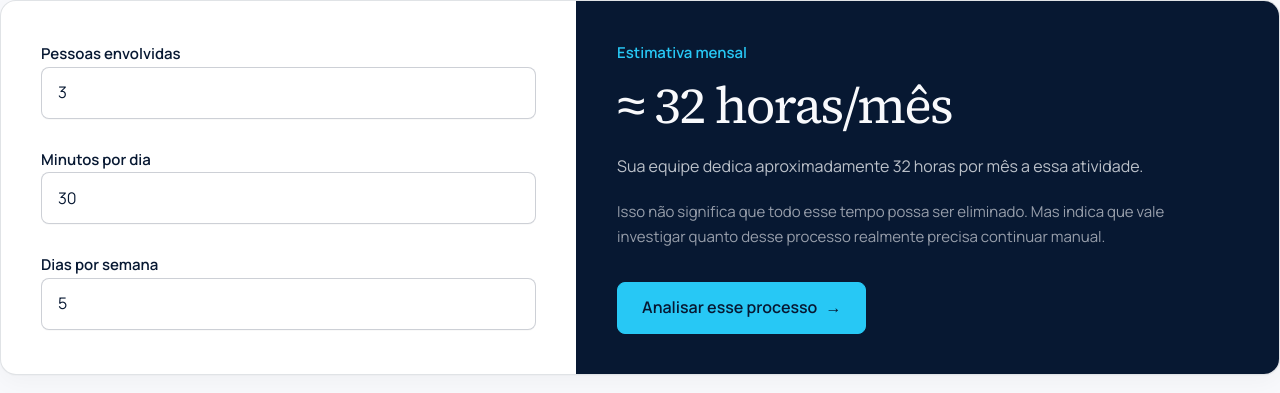
Test: manual-work calculator › updates the local estimate when an input changes
The width and height of the screenshot is (1280, 393).
Check: the text "32 horas/mês" is shown, box 617,70 -> 952,140
Replace the text in the number field labelled "Pessoas envolvidas" with "6" at point(289, 93), box 41,67 -> 536,119
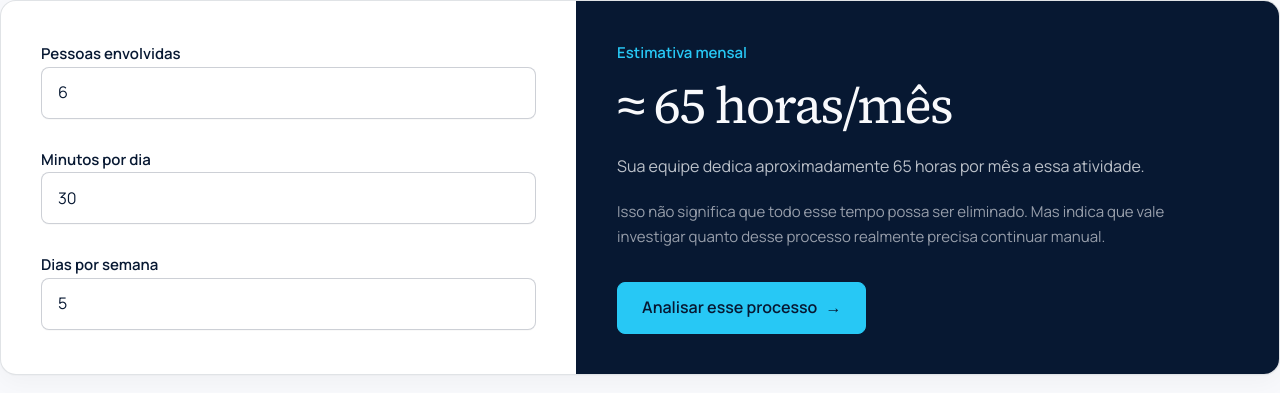
Check: the text "65 horas/mês" is shown, box 617,70 -> 952,140
